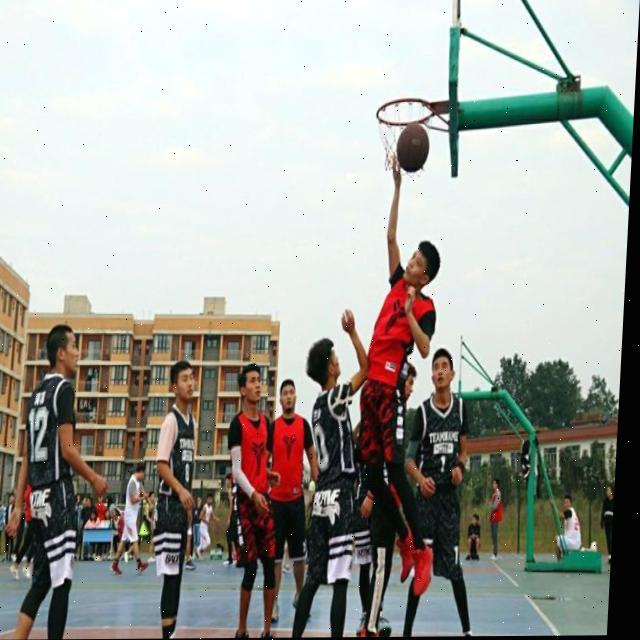basketball: (395, 123, 430, 171)
hoop: (372, 96, 437, 182)
